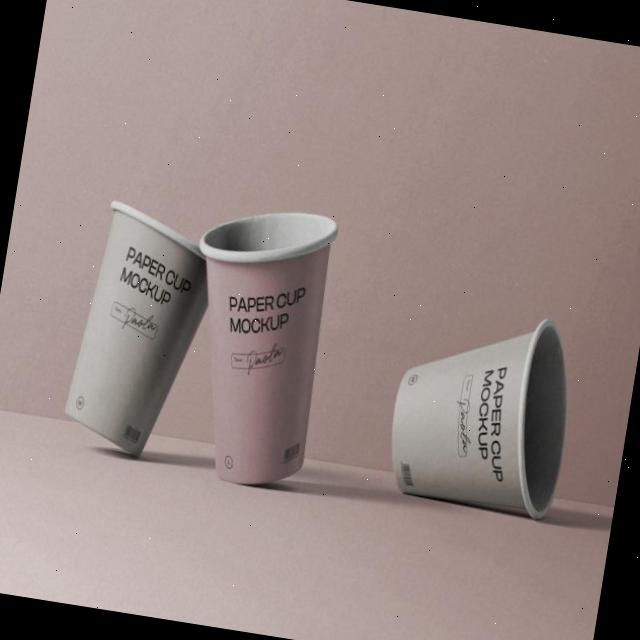trash: (162, 195, 344, 498), (379, 296, 584, 529), (58, 196, 224, 467)
